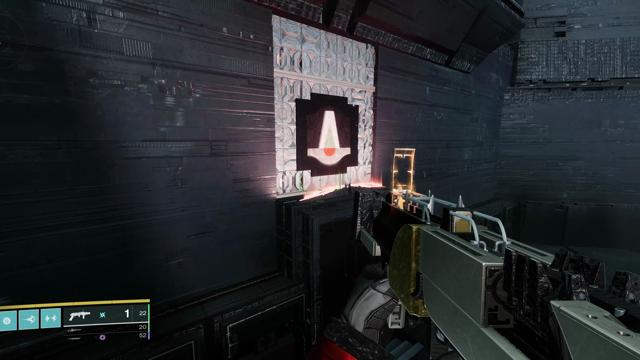enter: (307, 109, 351, 165)
